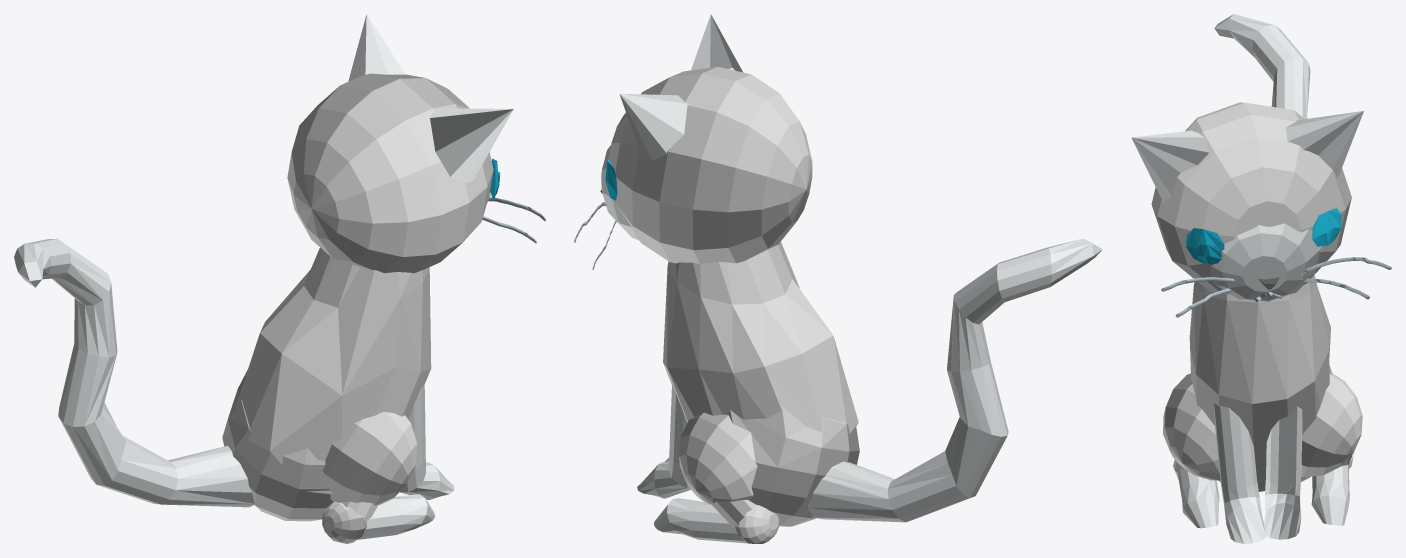
File: cat.dae
The picture shows the model from 3 angles, left to right: view 1: azimuth 30°, elevation 25°; view 2: azimuth 150°, elevation 25°; view 3: azimuth 270°, elevation 25°; orthographic projection. The views are drawn at different scales.
Parts seen in each view (by area): view 1: model; view 2: model; view 3: model.
Boxes of the visible parts, x1,y1,x2,y2 form: model: (14, 14, 545, 543); model: (574, 14, 1102, 543); model: (1131, 14, 1391, 543).
Size of the model in its own units: 1.31 by 0.6252 by 1.14.
